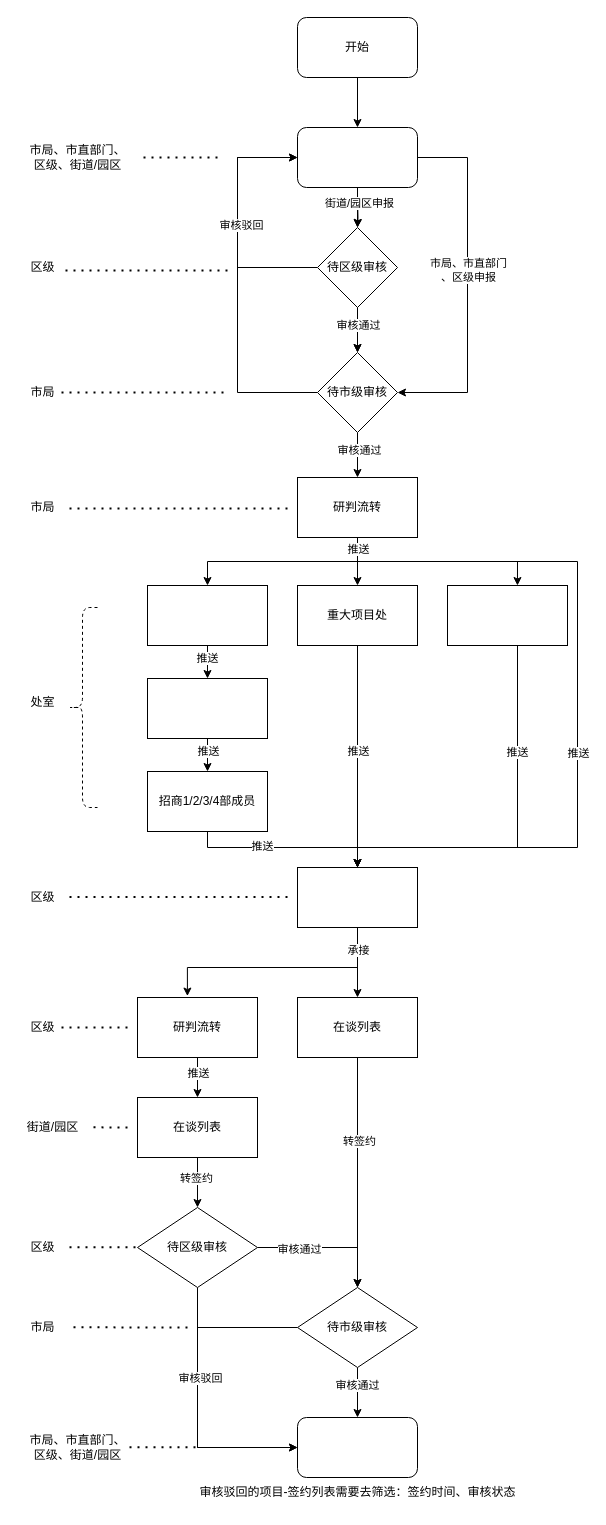
Image size: 606x1525. Some labels were removed from this diagram. Each missing label, with the box of its shape:
外资促进处: (446, 584, 568, 646)
招商1/2/3/4部: (146, 678, 268, 738)
签约列表: (296, 1416, 418, 1478)
综合部: (146, 584, 268, 646)
自行申报: (296, 126, 418, 188)
项目承接: (296, 866, 418, 928)
